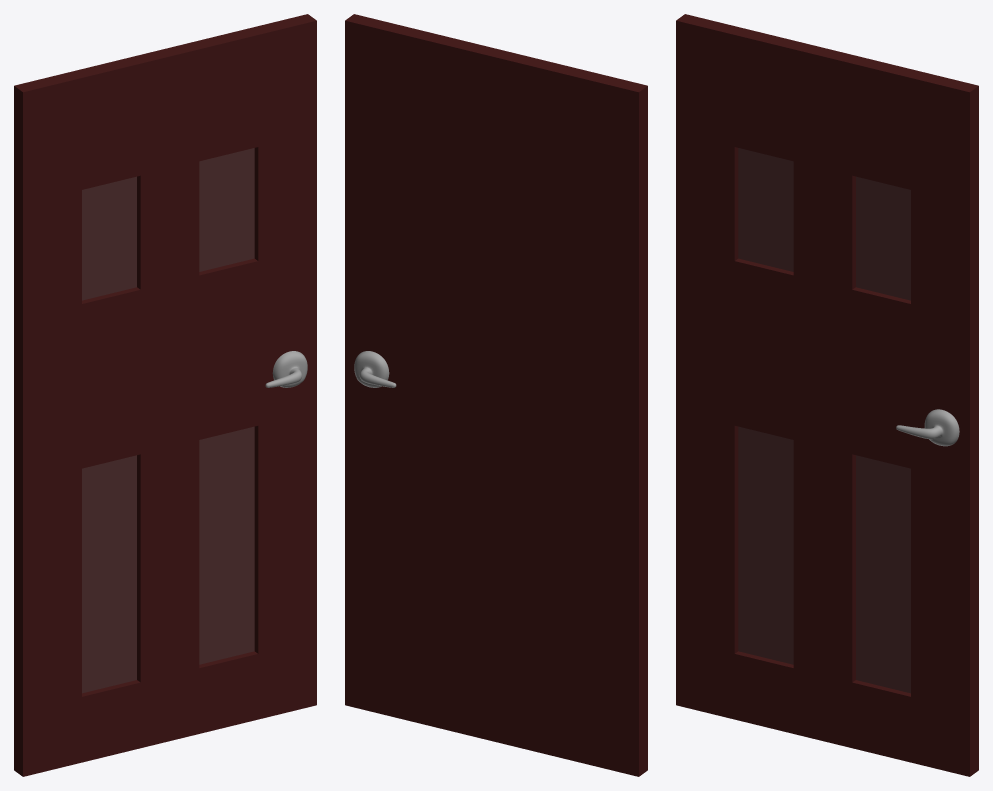
File: Door.fbx
The picture shows the model from 3 angles, left to right: view 1: azimuth 30°, elevation 25°; view 2: azimuth 150°, elevation 25°; view 3: azimuth 330°, elevation 25°; orthographic projection.
Visible parts, largest first — view 1: Door; view 2: Door; view 3: Door.
Part boxes in pixels (left/top/right/bottom): Door: left=14, top=14, right=316, bottom=776; Door: left=345, top=14, right=647, bottom=776; Door: left=676, top=14, right=978, bottom=776.
Size of the model in its own units: 112 by 250 by 23.29.
